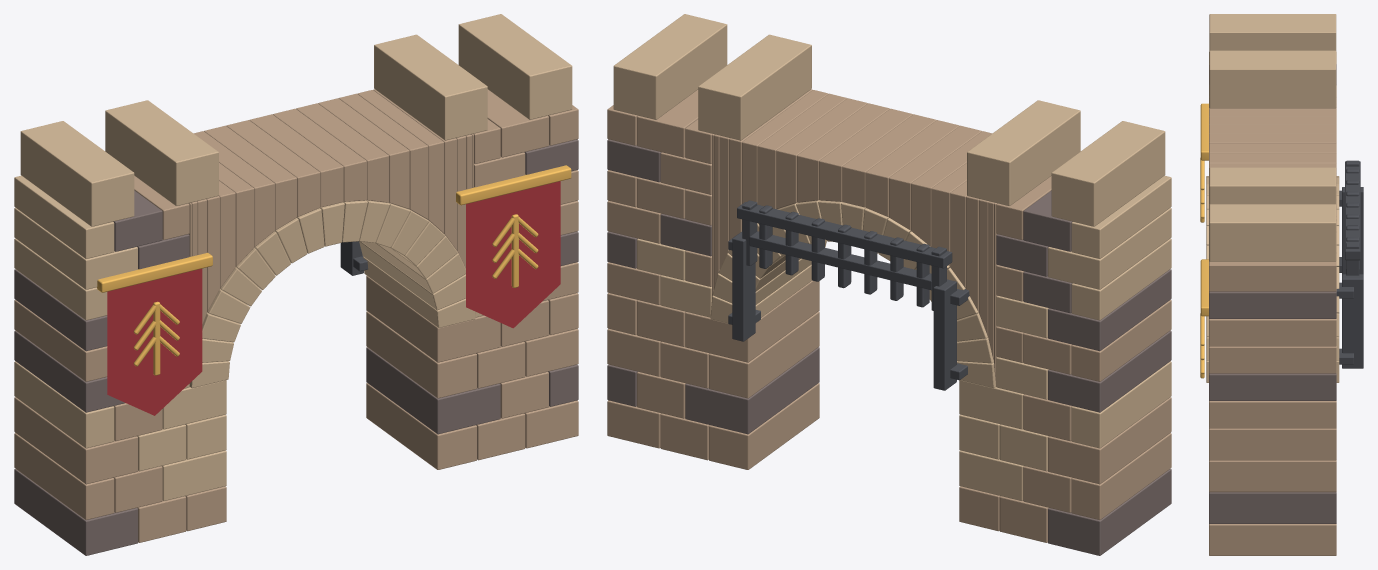
The model's file is ashwick-village-gate.meshopt.glb.
3 views of the same model, side by side, from view 1: azimuth 30°, elevation 25°; view 2: azimuth 150°, elevation 25°; view 3: azimuth 270°, elevation 25° (orthographic). The views are drawn at different scales.
Parts seen in each view (by area): view 1: Pier ashlar.003, Gate battlements.001, Spandrel stones.001, Pier ashlar.004, Pier ashlar.005, Swallow pennant.001, Entrance arch.001, Banner staff.001, Tree device.001; view 2: Pier ashlar.003, Spandrel stones.001, Gate battlements.001, Pier ashlar.005, Pier ashlar.004, Entrance arch.001, Grille guide.001, Portcullis.001, Grille upper crossbar.001, Lifting grille rail.001, Grille edge stile.001, Track wall anchors.001; view 3: Pier ashlar.003, Gate battlements.001, Pier ashlar.004, Spandrel stones.001, Grille guide.001, Entrance arch.001, Grille upper crossbar.001, Banner staff.001, Tree device.001, Portcullis.001, Track wall anchors.001, Grille edge stile.001.
Part boxes in pixels (x1=…): Pier ashlar.003: x1=14, y1=89, x2=578, y2=542; Gate battlements.001: x1=20, y1=14, x2=572, y2=226; Spandrel stones.001: x1=188, y1=89, x2=473, y2=386; Pier ashlar.004: x1=14, y1=139, x2=578, y2=555; Pier ashlar.005: x1=14, y1=175, x2=483, y2=500; Swallow pennant.001: x1=107, y1=181, x2=560, y2=415; Entrance arch.001: x1=190, y1=200, x2=475, y2=388; Banner staff.001: x1=97, y1=165, x2=571, y2=292; Tree device.001: x1=133, y1=214, x2=538, y2=375; Pier ashlar.003: x1=607, y1=89, x2=1171, y2=542; Spandrel stones.001: x1=712, y1=89, x2=997, y2=386; Gate battlements.001: x1=613, y1=14, x2=1165, y2=226; Pier ashlar.005: x1=637, y1=175, x2=1171, y2=500; Pier ashlar.004: x1=607, y1=139, x2=1171, y2=555; Entrance arch.001: x1=710, y1=200, x2=995, y2=388; Grille guide.001: x1=732, y1=231, x2=956, y2=390; Portcullis.001: x1=759, y1=205, x2=929, y2=307; Grille upper crossbar.001: x1=737, y1=202, x2=952, y2=268; Lifting grille rail.001: x1=749, y1=231, x2=931, y2=290; Grille edge stile.001: x1=742, y1=200, x2=946, y2=310; Track wall anchors.001: x1=728, y1=234, x2=969, y2=380; Pier ashlar.003: x1=1209, y1=85, x2=1336, y2=555; Gate battlements.001: x1=1209, y1=14, x2=1336, y2=261; Pier ashlar.004: x1=1209, y1=64, x2=1336, y2=523; Spandrel stones.001: x1=1209, y1=97, x2=1336, y2=220; Grille guide.001: x1=1342, y1=187, x2=1363, y2=368; Entrance arch.001: x1=1206, y1=176, x2=1339, y2=382; Grille upper crossbar.001: x1=1345, y1=161, x2=1360, y2=260; Banner staff.001: x1=1200, y1=103, x2=1208, y2=316; Tree device.001: x1=1200, y1=158, x2=1204, y2=378; Portcullis.001: x1=1346, y1=168, x2=1359, y2=241; Track wall anchors.001: x1=1336, y1=190, x2=1353, y2=364; Grille edge stile.001: x1=1346, y1=160, x2=1359, y2=275.
Bounding box in the file's own units: 5.83 × 4.2 × 1.88.
